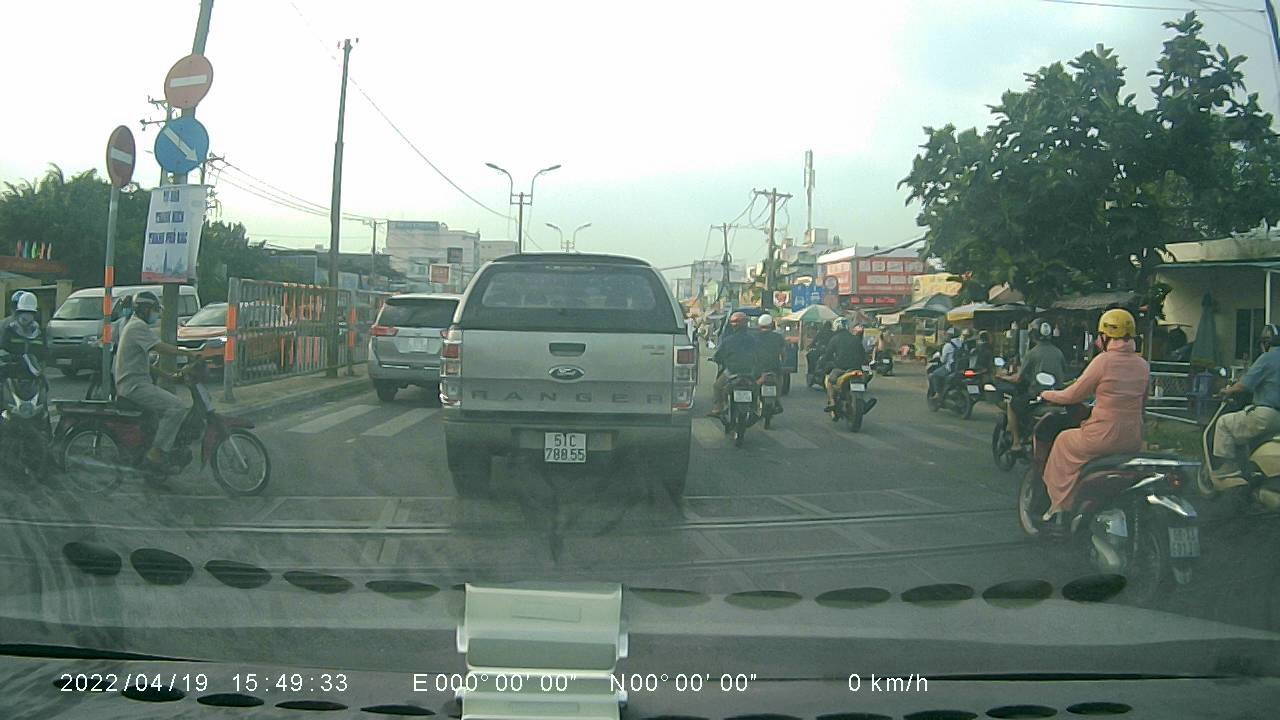Cam di nguoc chieu: (166, 53, 213, 108), (105, 122, 137, 190)
Huong di phai re phai: (156, 118, 206, 176)
